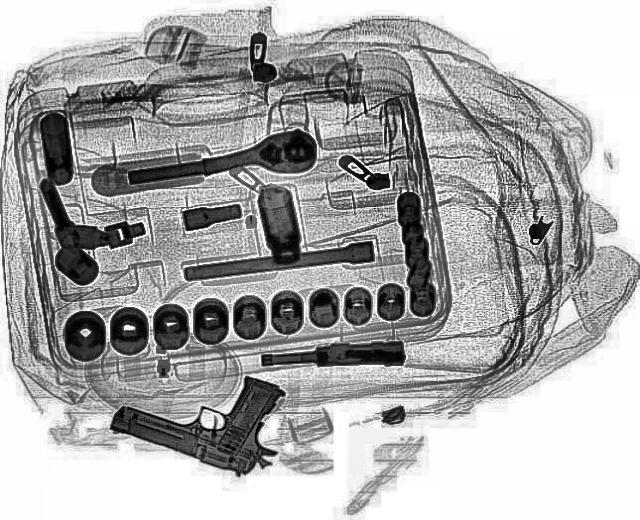Gun: (102, 344, 314, 482)
